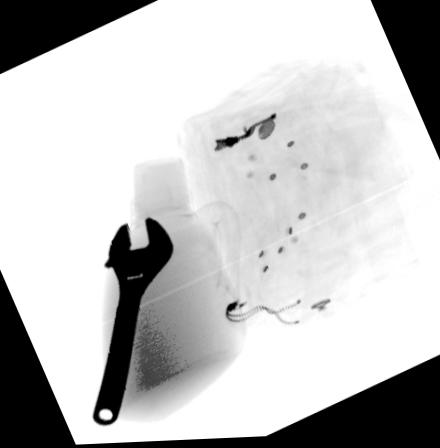Wrench: (91, 215, 175, 428)
